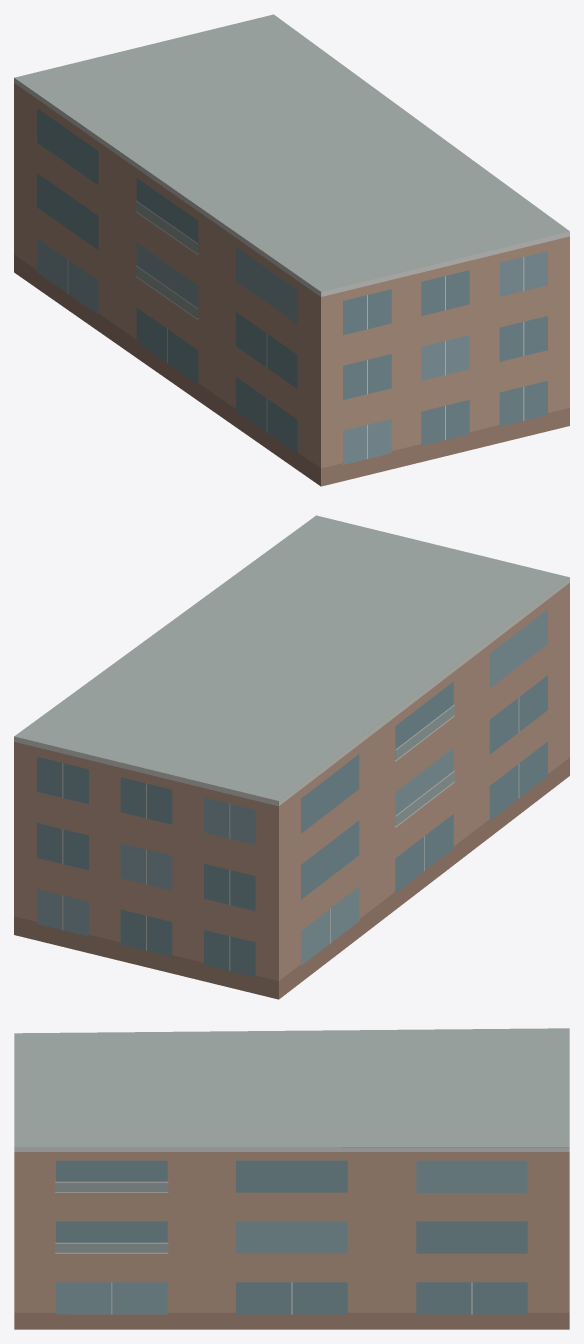
Rendered from survey-upis-32902953.glb.
The picture shows the model from 3 angles, top to bottom: view 1: azimuth 30°, elevation 25°; view 2: azimuth 150°, elevation 25°; view 3: azimuth 270°, elevation 25°; orthographic projection. The views are drawn at different scales.
Parts seen in each view (by area): view 1: survey-upis-32902953.tmp; view 2: survey-upis-32902953.tmp; view 3: survey-upis-32902953.tmp.
Part boxes in pixels (left/top/right/bottom): survey-upis-32902953.tmp: left=14, top=14, right=569, bottom=486; survey-upis-32902953.tmp: left=14, top=515, right=569, bottom=999; survey-upis-32902953.tmp: left=14, top=1028, right=569, bottom=1329.
Size of the model in its own units: 12.81 by 9.15 by 25.26.
